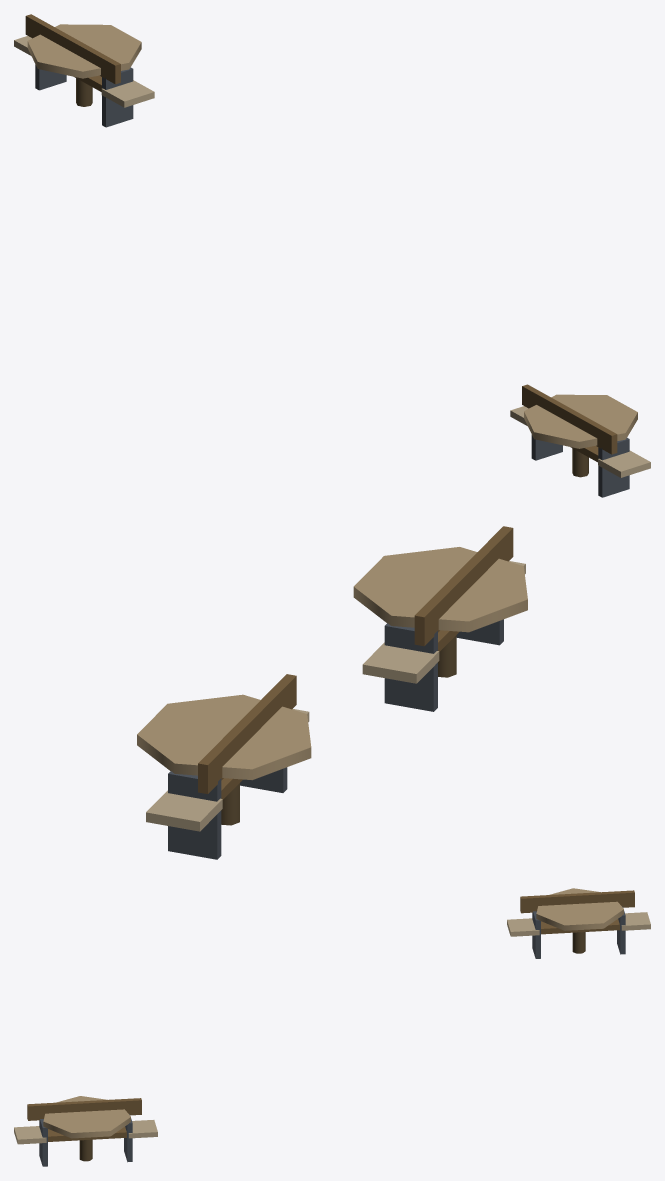
Rendered from cell--540_135.glb.
3 renders of one model, top to bottom at view 1: azimuth 30°, elevation 25°; view 2: azimuth 150°, elevation 25°; view 3: azimuth 270°, elevation 25°, orthographic. The views are drawn at different scales.
Parts seen in each view (by area): view 1: cell--540_135; view 2: cell--540_135; view 3: cell--540_135.
Part boxes in pixels (<box>): cell--540_135: <box>14,14,650,497</box>; cell--540_135: <box>137,526,527,859</box>; cell--540_135: <box>14,888,650,1166</box>.
Bounding box in the file's own units: 1.86 × 1.59 × 4.77.
